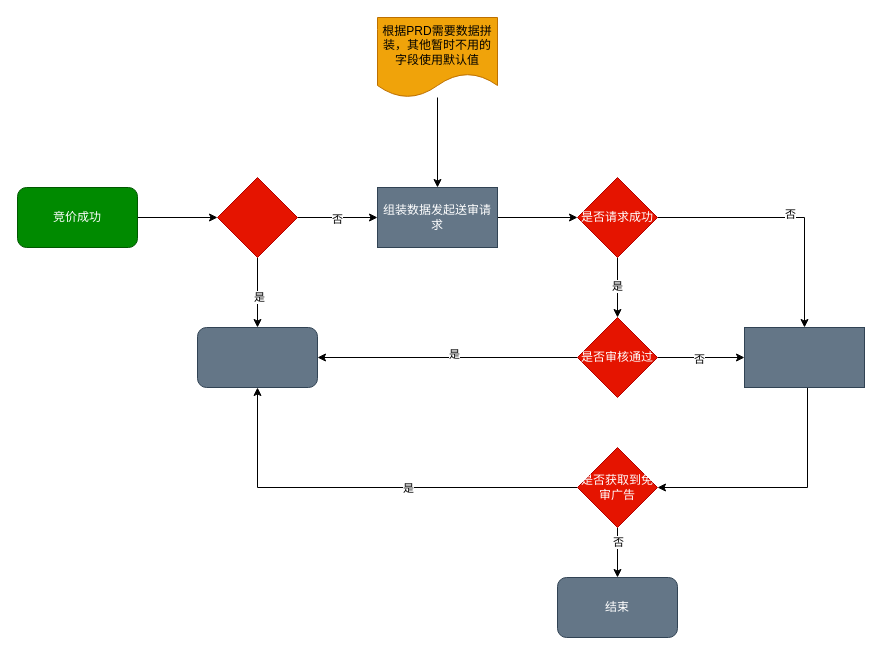
Image size: 882x655. Some labels were removed from this diagram. Here are the shapes that lost their labels. From the top down, the centre of each, then its label:
point 257,217: 是否免审
point 257,357: 渲染广告
point 804,357: 遍历所有可用的广告，取集合里第一个免审的广告
